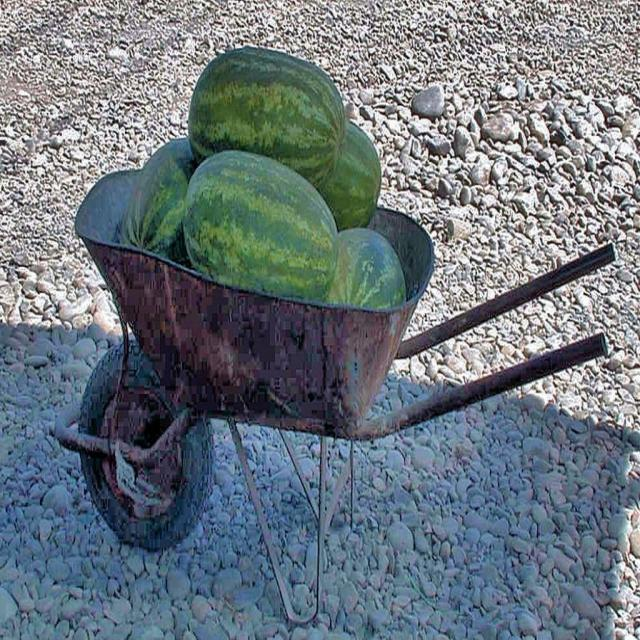Watermelon: (184, 148, 338, 298), (188, 41, 342, 187), (122, 132, 194, 259), (321, 121, 381, 232), (329, 230, 406, 314)
